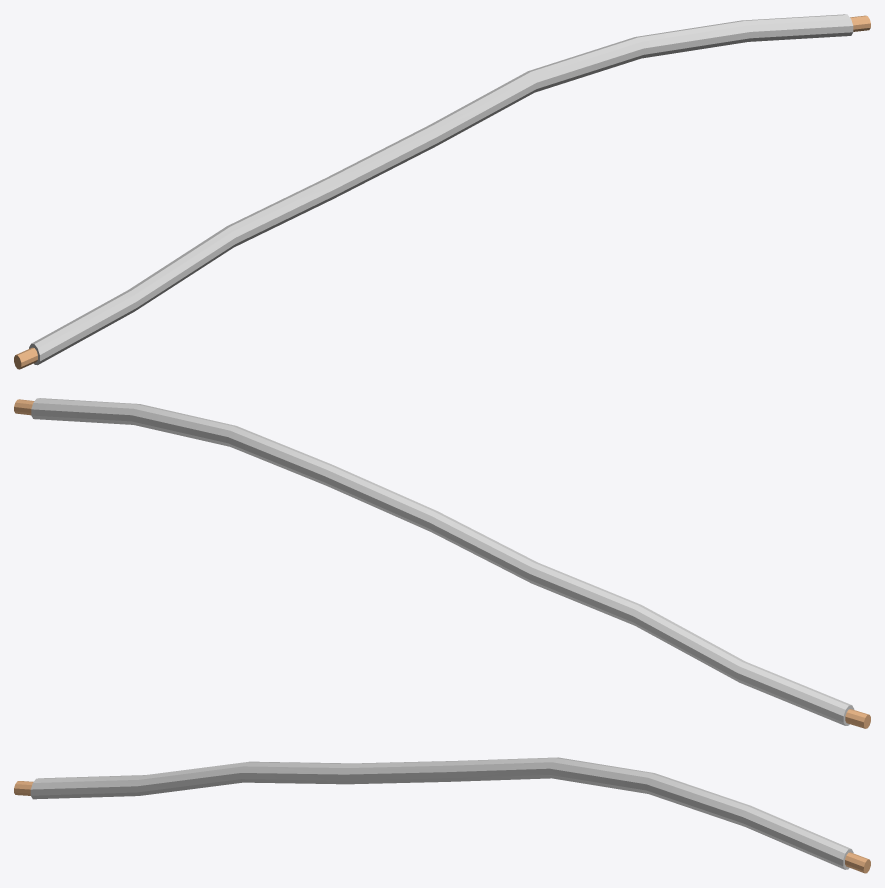
The model's file is Wire_1_White.fbx.
3 views of the same model, one above another, from view 1: azimuth 30°, elevation 25°; view 2: azimuth 150°, elevation 25°; view 3: azimuth 330°, elevation 25° (orthographic). The views are drawn at different scales.
Parts seen in each view (by area): view 1: polySurface223; view 2: polySurface223; view 3: polySurface223.
Boxes of the visible parts, bbox=[...] form: polySurface223: bbox=[14, 14, 870, 369]; polySurface223: bbox=[14, 398, 870, 728]; polySurface223: bbox=[14, 757, 870, 873].
Bounding box in the file's own units: 1.42 × 0.2624 × 0.0817.
